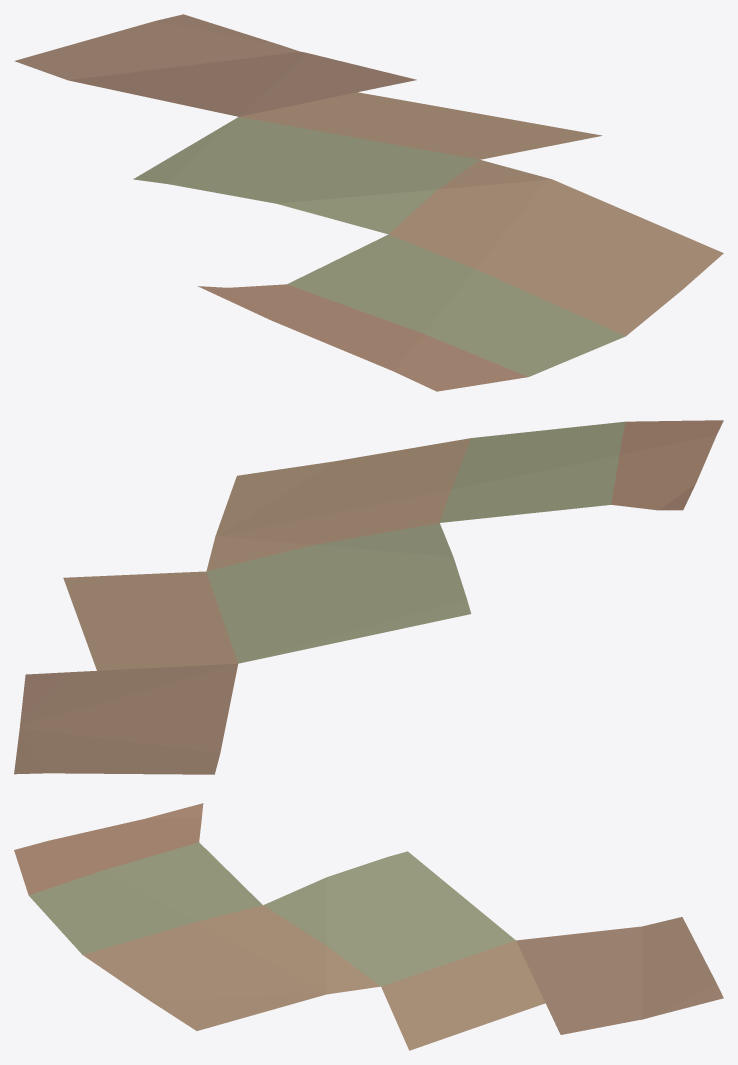
The model's file is farm_-37_-48_soil.glb.
The picture shows the model from 3 angles, top to bottom: view 1: azimuth 30°, elevation 25°; view 2: azimuth 150°, elevation 25°; view 3: azimuth 270°, elevation 25°; orthographic projection. The views are drawn at different scales.
Parts seen in each view (by area): view 1: geometry_0; view 2: geometry_0; view 3: geometry_0.
Boxes of the visible parts, <box> form: geometry_0: <box>14,14,723,391</box>; geometry_0: <box>14,420,723,774</box>; geometry_0: <box>14,803,723,1050</box>.
Bounding box in the file's own units: 109 × 21.28 × 180.
